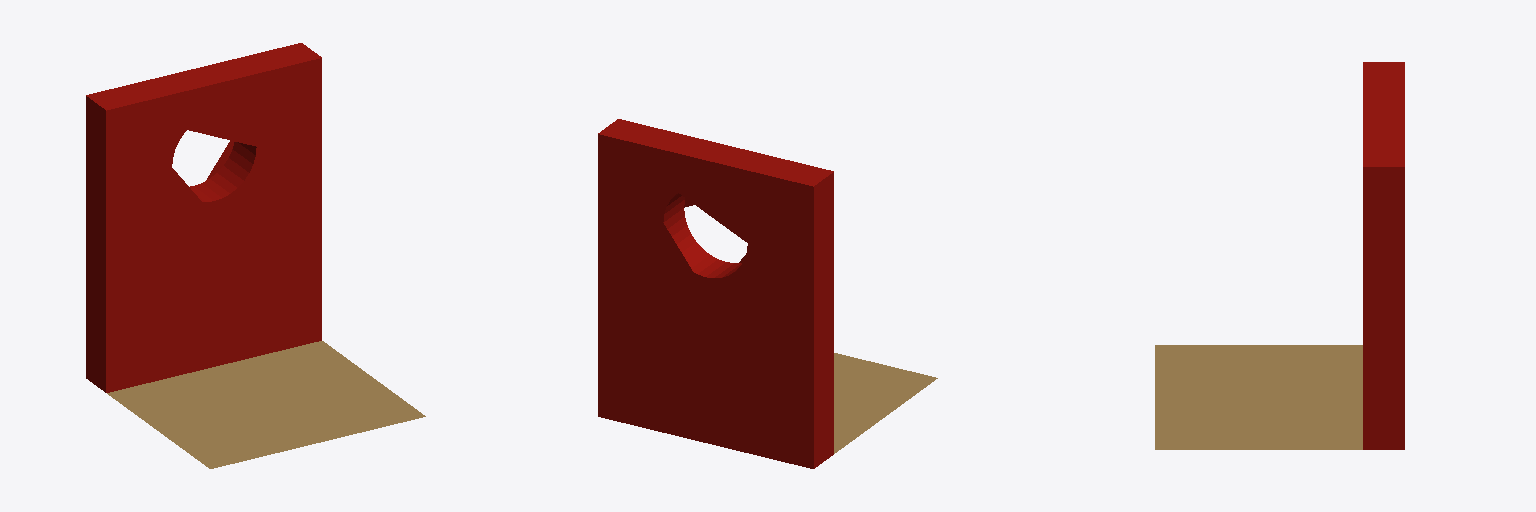
Rendered from window.obj.
The picture shows the model from 3 angles: view 1: azimuth 30°, elevation 25°; view 2: azimuth 150°, elevation 25°; view 3: azimuth 270°, elevation 25°; orthographic projection.
Parts seen in each view (by area): view 1: Cube_Cube.001, Mesh1_Plate_Grass_Dirt_Model; view 2: Cube_Cube.001, Mesh1_Plate_Grass_Dirt_Model; view 3: Mesh1_Plate_Grass_Dirt_Model, Cube_Cube.001.
Boxes of the visible parts, x1=… form: Cube_Cube.001: x1=86, y1=43, x2=321, y2=392; Mesh1_Plate_Grass_Dirt_Model: x1=107, y1=341, x2=425, y2=468; Cube_Cube.001: x1=598, y1=119, x2=833, y2=468; Mesh1_Plate_Grass_Dirt_Model: x1=834, y1=353, x2=937, y2=453; Mesh1_Plate_Grass_Dirt_Model: x1=1155, y1=345, x2=1362, y2=449; Cube_Cube.001: x1=1363, y1=62, x2=1404, y2=449.
Size of the model in its own units: 3 by 3.75 by 3.